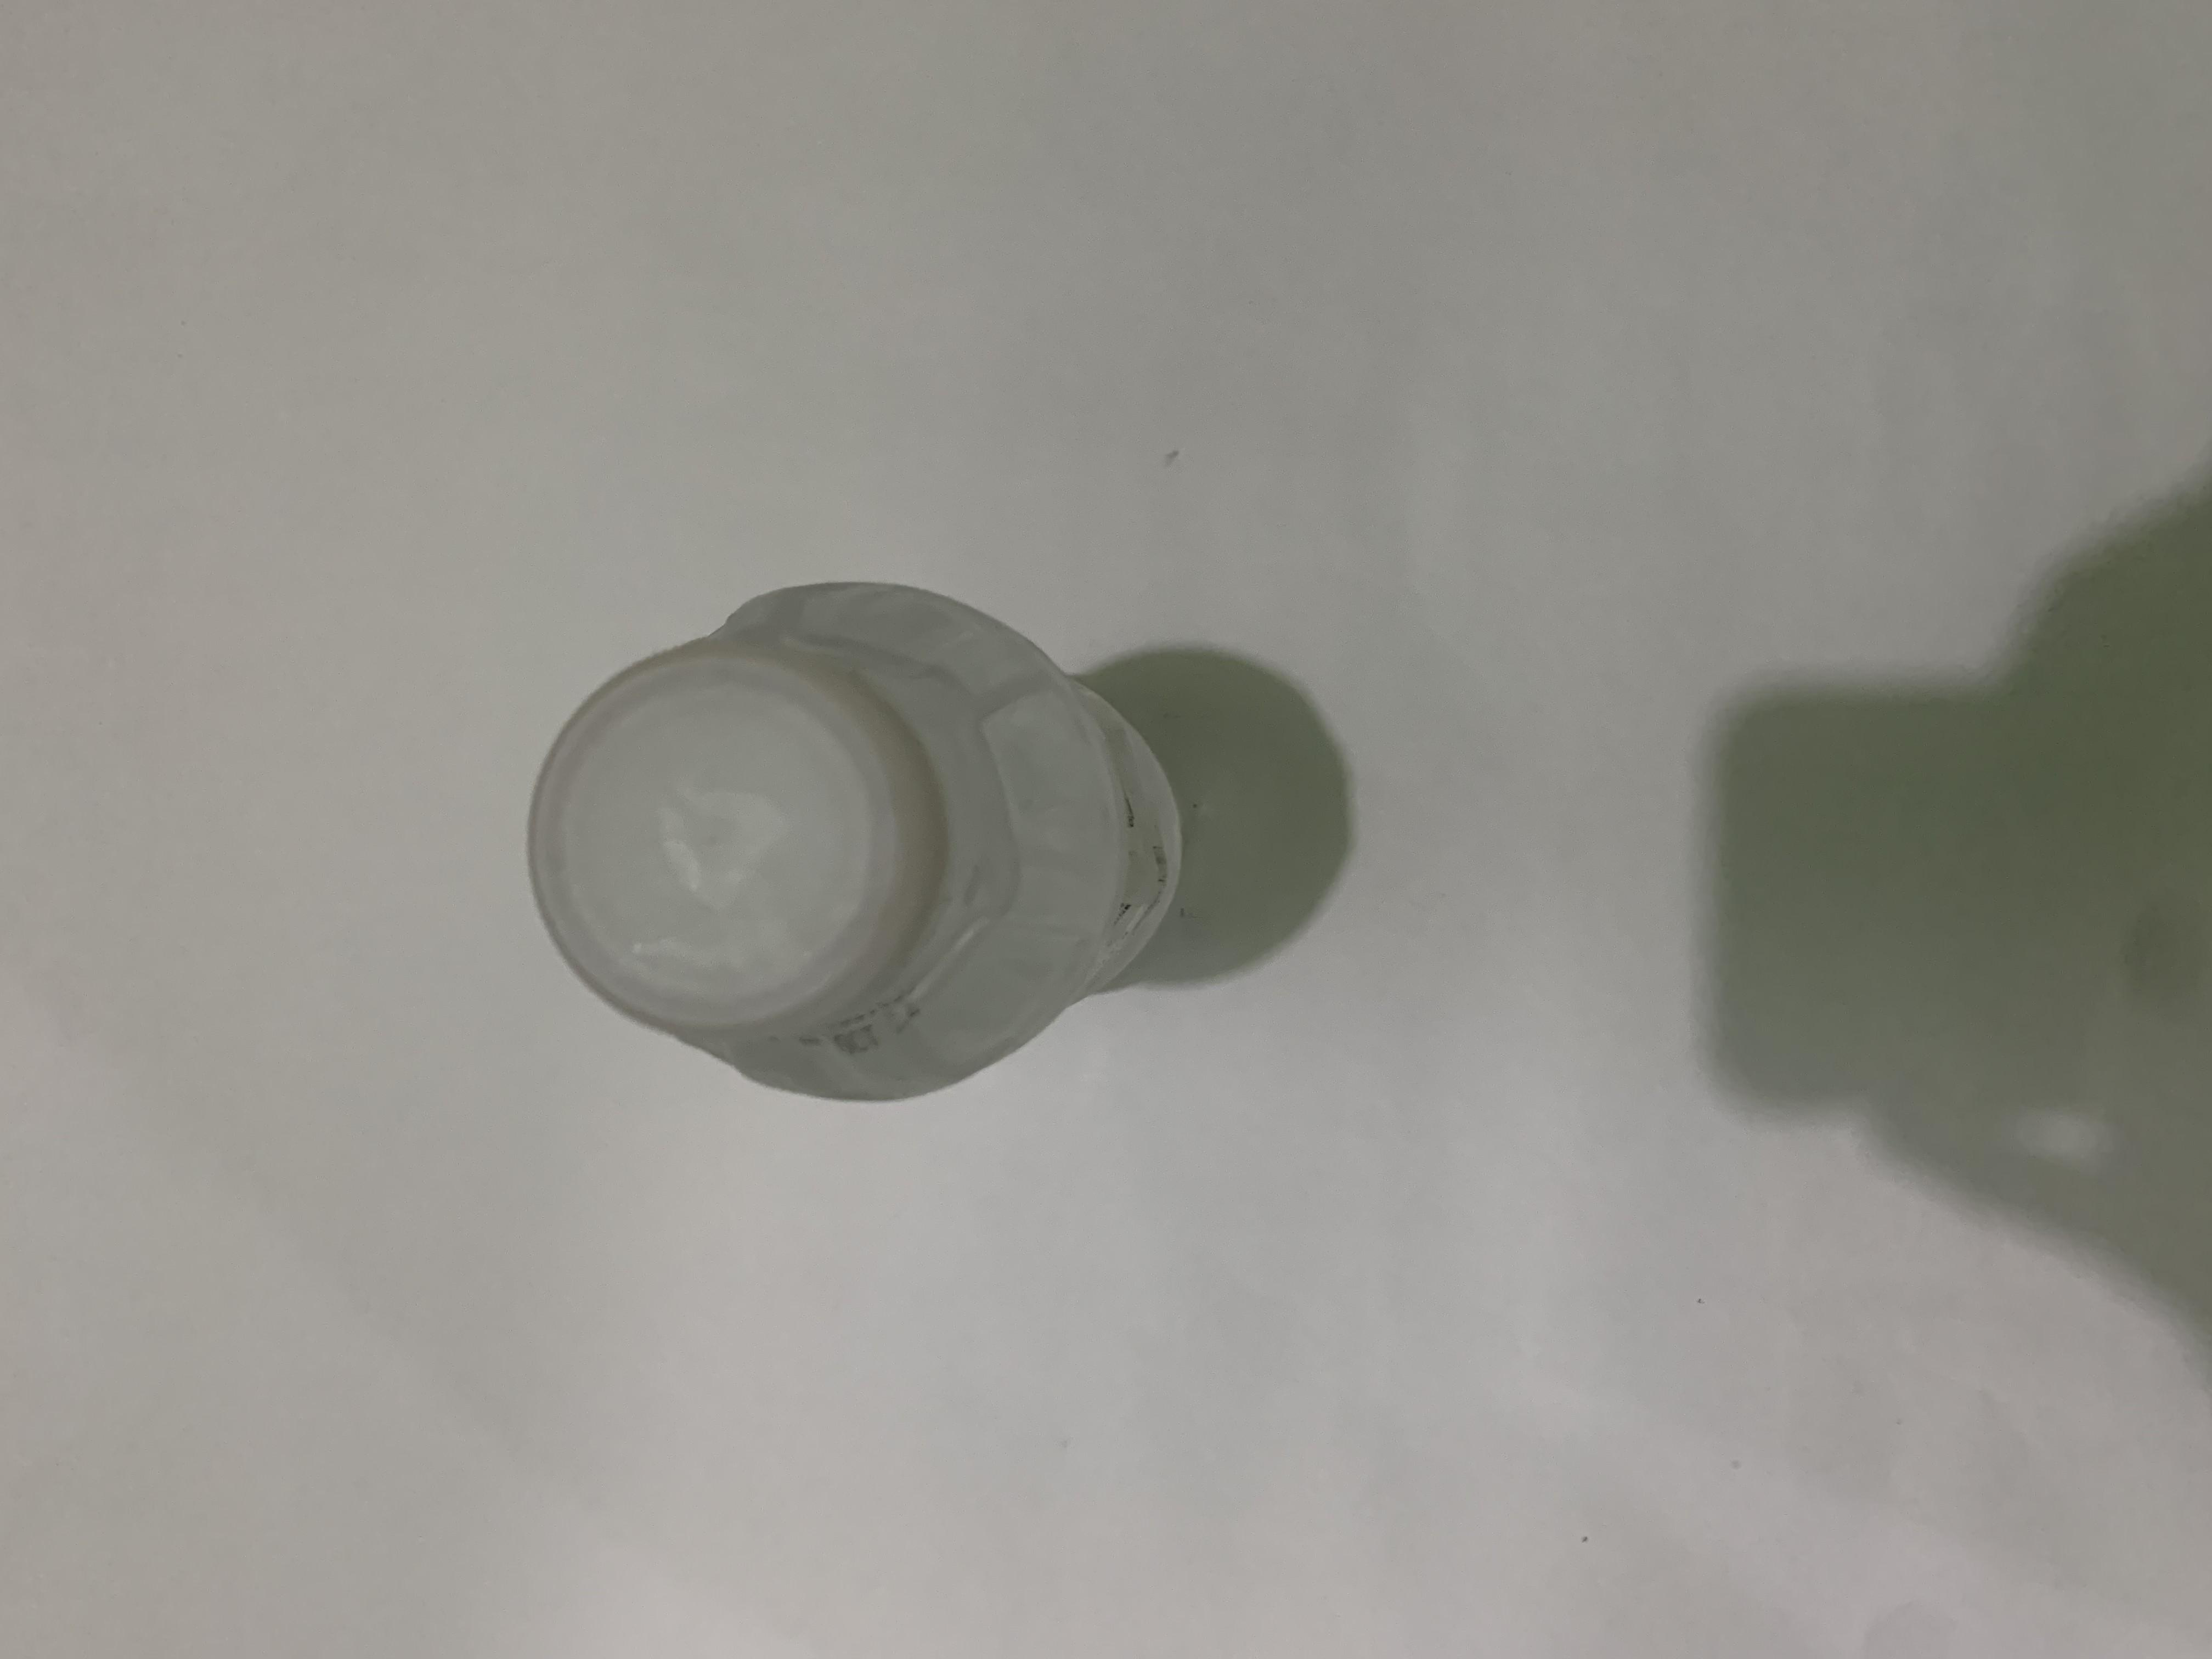bottle: (732, 383, 1449, 901)
